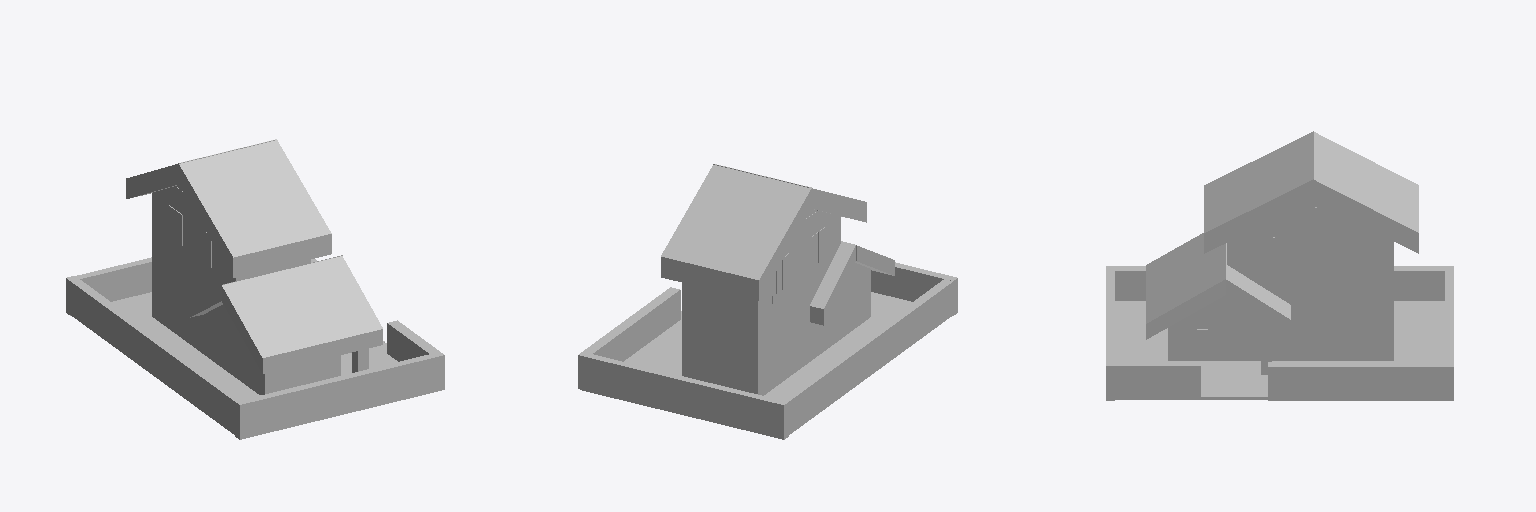
The model's file is house2.obj.
The picture shows the model from 3 angles: view 1: azimuth 30°, elevation 25°; view 2: azimuth 150°, elevation 25°; view 3: azimuth 270°, elevation 25°; orthographic projection.
Parts seen in each view (by area): view 1: Cube; view 2: Cube; view 3: Cube.
Boxes of the visible parts, <box> form: Cube: <box>66,139,444,439</box>; Cube: <box>578,164,957,439</box>; Cube: <box>1106,131,1453,400</box>.
Bounding box in the file's own units: 13.99 × 12.33 × 20.41.